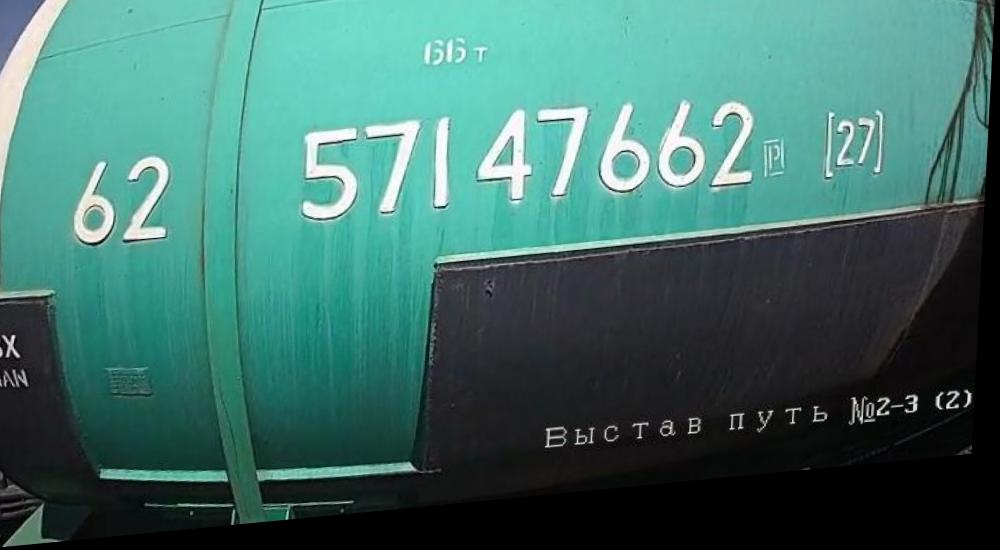Wagon-number: (296, 100, 765, 242)
